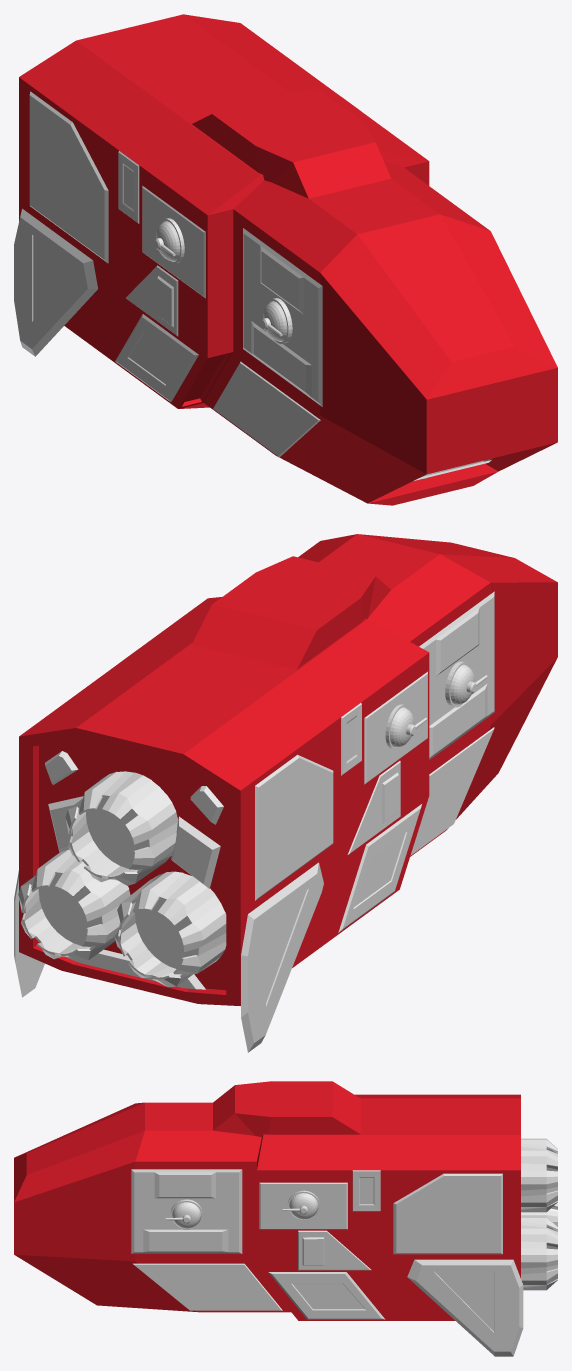
Rendered from boss.fbx.
3 renders of one model, top to bottom at view 1: azimuth 30°, elevation 25°; view 2: azimuth 150°, elevation 25°; view 3: azimuth 270°, elevation 25°, orthographic. The views are drawn at different scales.
Parts seen in each view (by area): view 1: Cube; view 2: Cube; view 3: Cube.
Part boxes in pixels (box(x1,y1,x2,y2)): Cube: box(14, 14, 557, 505); Cube: box(14, 534, 557, 1052); Cube: box(14, 1081, 557, 1356).
Bounding box in the file's own units: 393 × 456 × 1028.
